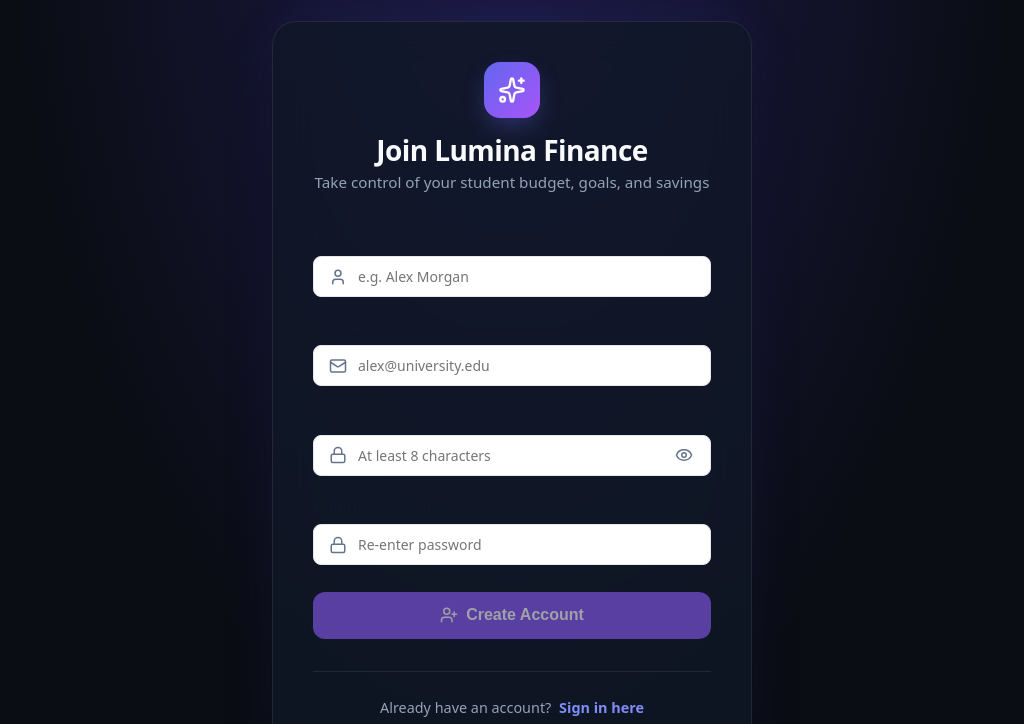
Lumina Finance Frontend Security & QA Suite › 29. Registration Form Validation & Password Checklist › disables submit button and validates rules checklist
The width and height of the screenshot is (1024, 724).
Expected: the button "Create Account" is disabled, [313,592,711,639]
Type "Jane Student" into the field labelled "Full Name" at (512, 276), box [313,256,711,297]
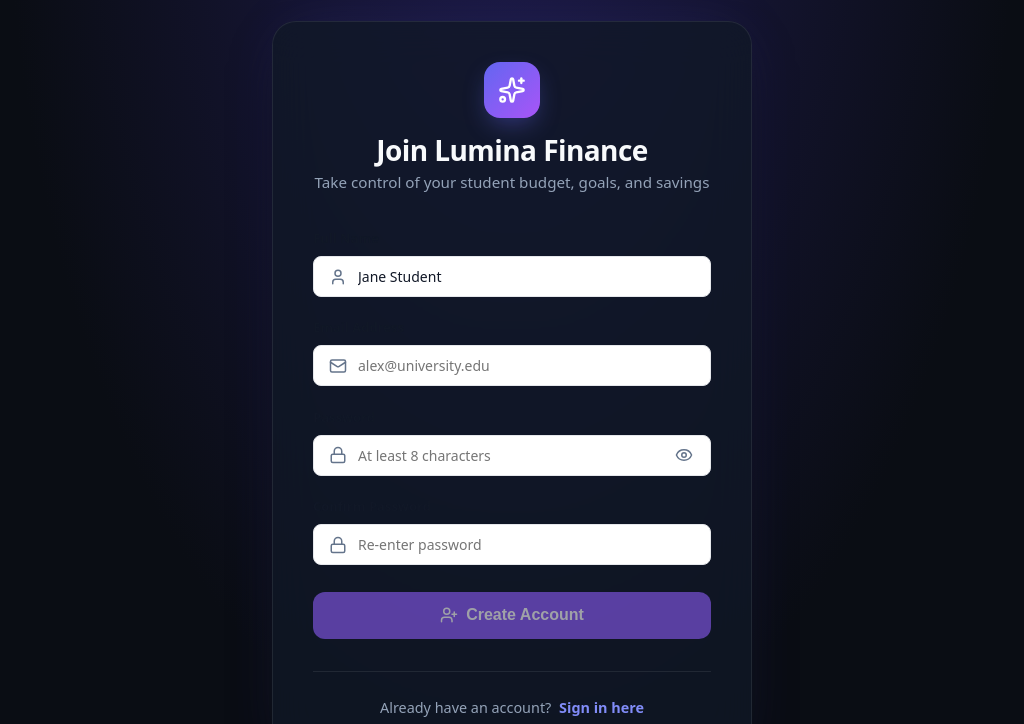
Type "student@uni.edu" into the field labelled "Email Address" at (512, 366), box [313,345,711,386]
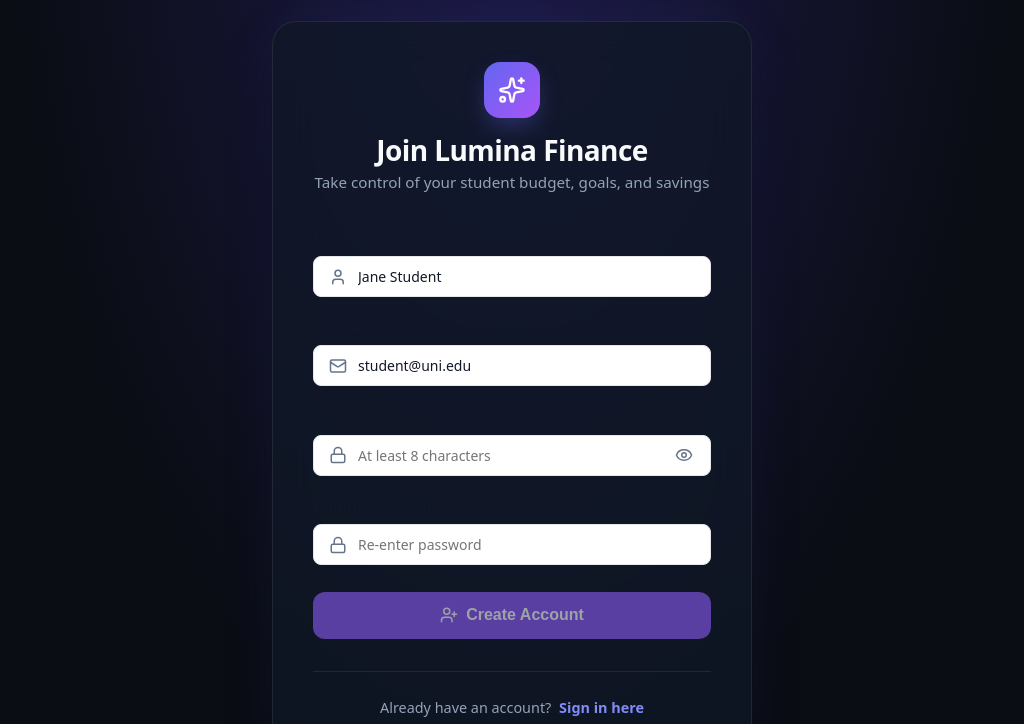
Type "Weak1" into the password field labelled "Password" at (512, 455), box [313,435,711,476]
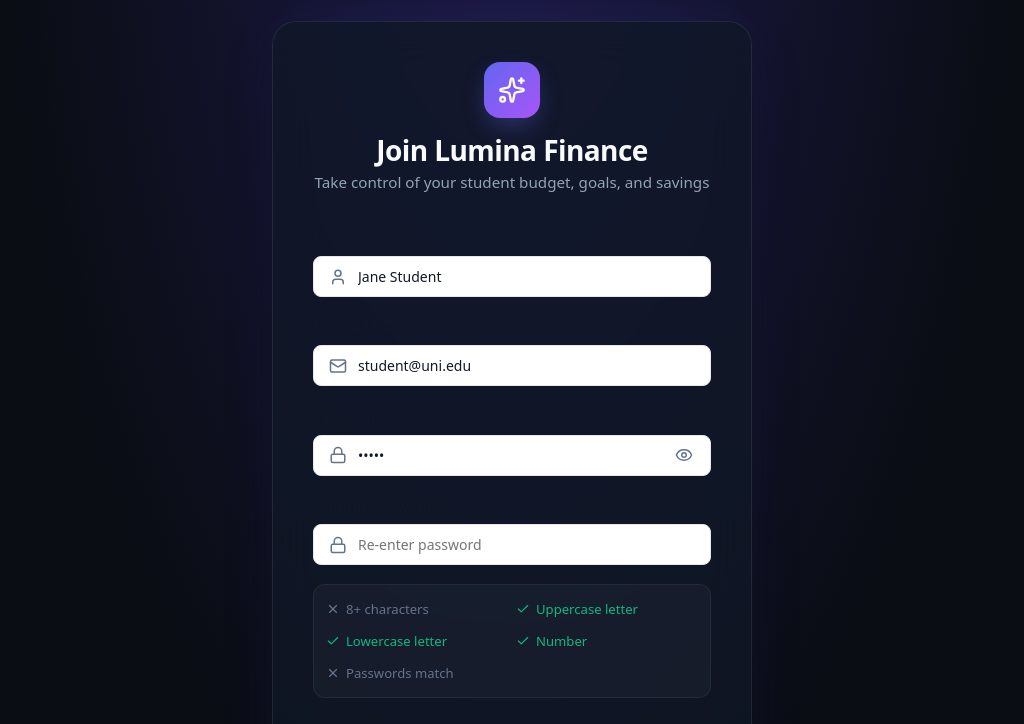
Type "Weak1" into the password field labelled "Confirm Password" at (512, 545), box [313,524,711,565]
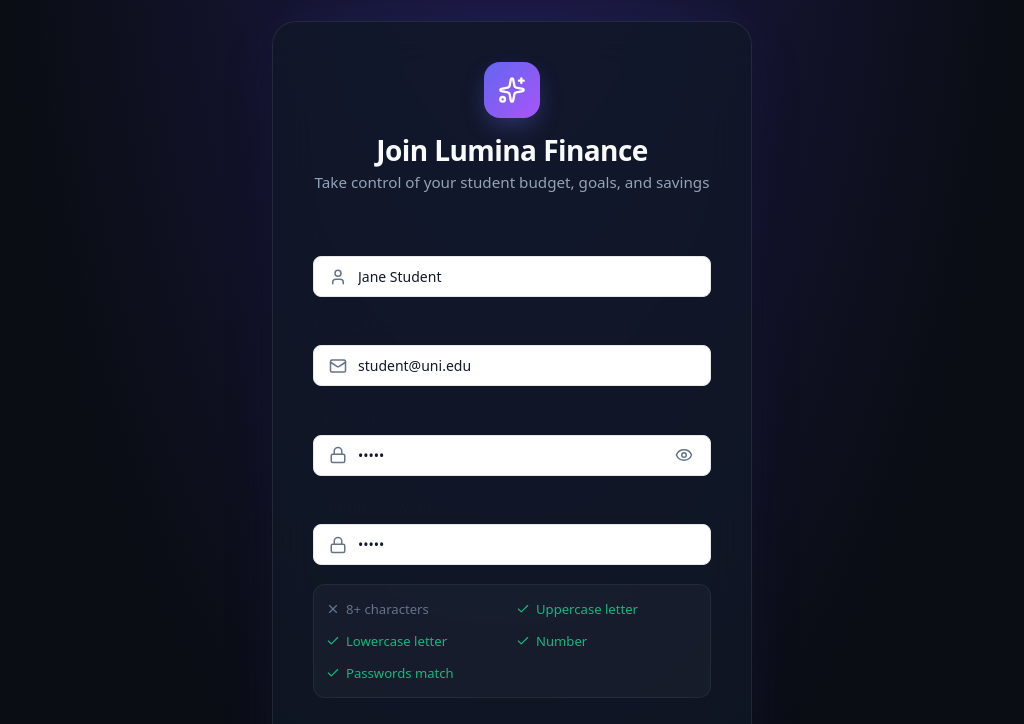
Enter valid password meeting all criteria
Type "SecurePass99!" into the password field labelled "Password" at (512, 455), box [313,435,711,476]
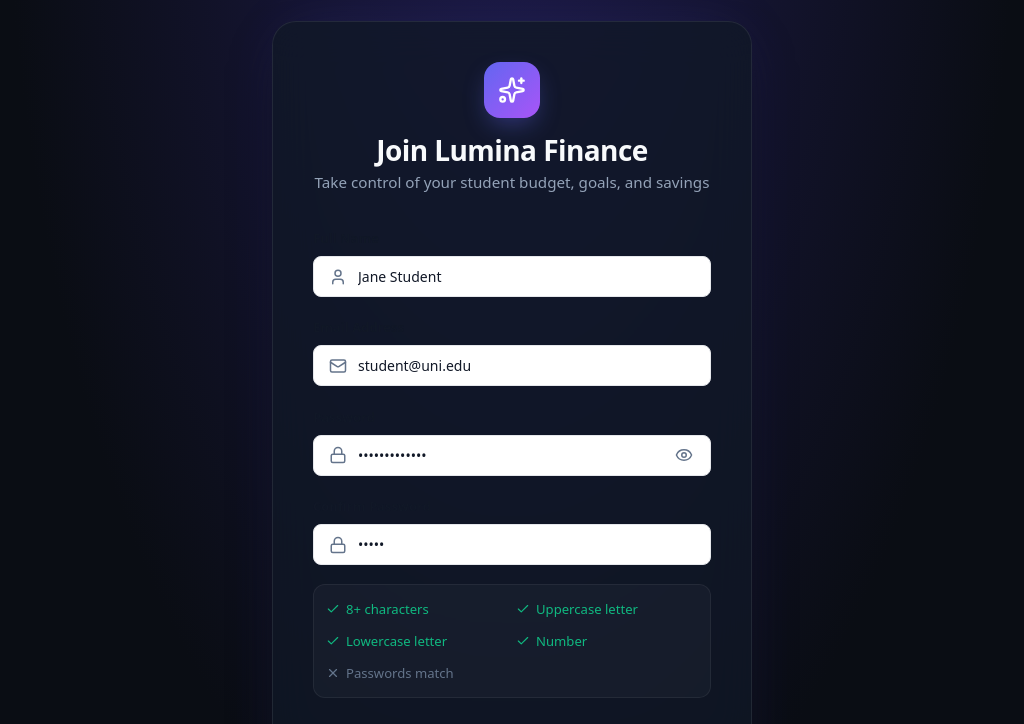
Type "SecurePass99!" into the password field labelled "Confirm Password" at (512, 545), box [313,524,711,565]
(page scrolled)
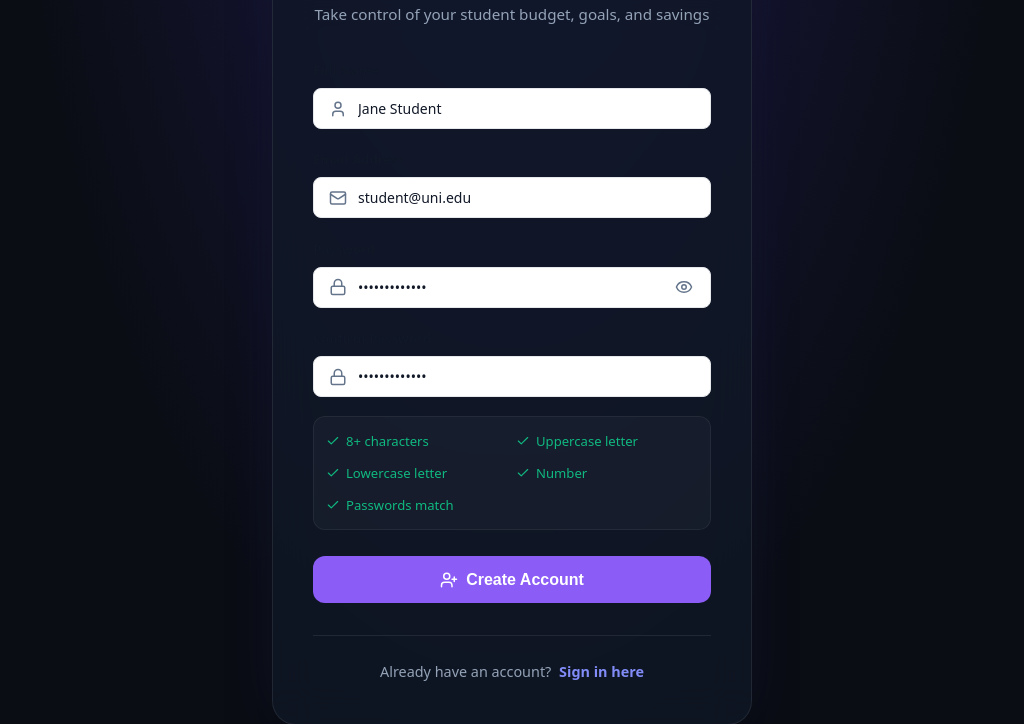
Expected: the button "Create Account" is enabled, [313,556,711,603]
